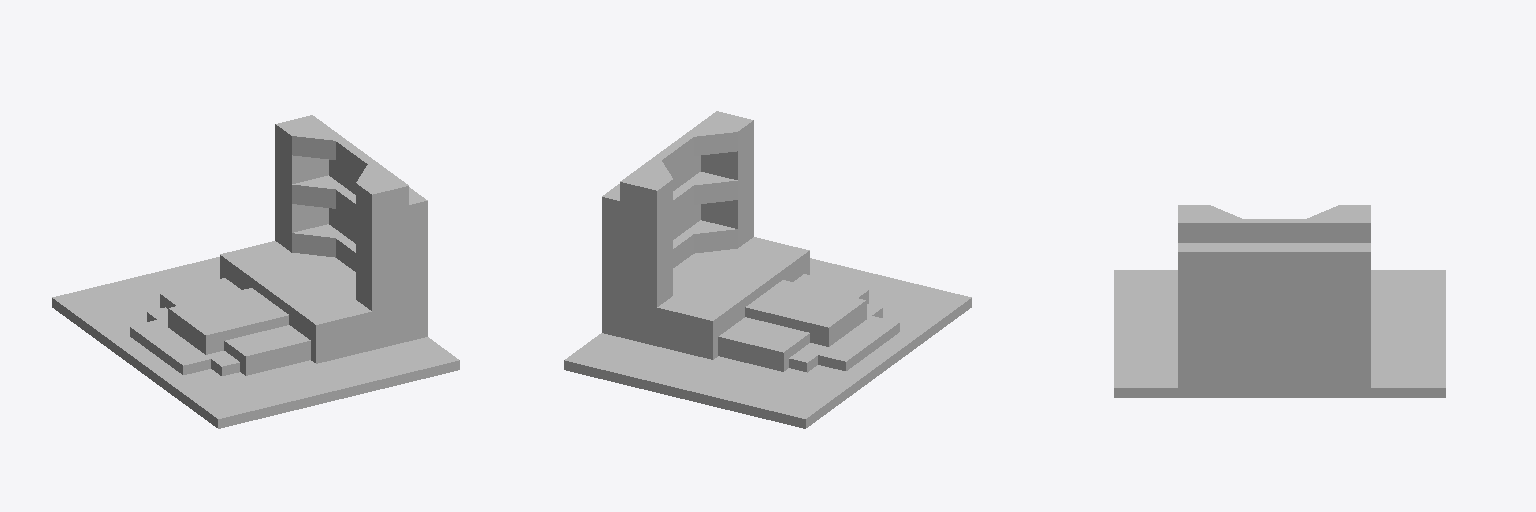
The picture shows the model from 3 angles: view 1: azimuth 30°, elevation 25°; view 2: azimuth 150°, elevation 25°; view 3: azimuth 270°, elevation 25°; orthographic projection.
Parts seen in each view (by area): view 1: entity0_brush5, entity0_brush0, entity0_brush12, entity0_brush4, entity0_brush13, entity0_brush19, entity0_brush3, entity0_brush1, entity0_brush2, entity0_brush16, entity0_brush6, entity0_brush10 (+4 smaller); view 2: entity0_brush5, entity0_brush0, entity0_brush13, entity0_brush4, entity0_brush12, entity0_brush19, entity0_brush2, entity0_brush1, entity0_brush16, entity0_brush11, entity0_brush7, entity0_brush15 (+4 smaller); view 3: entity0_brush19, entity0_brush5, entity0_brush16, entity0_brush12, entity0_brush13.
Boxes of the visible parts, x1=… form: entity0_brush5: x1=52, y1=257, x2=459, y2=428; entity0_brush0: x1=220, y1=241, x2=408, y2=363; entity0_brush12: x1=356, y1=174, x2=408, y2=310; entity0_brush4: x1=168, y1=288, x2=288, y2=354; entity0_brush13: x1=275, y1=115, x2=328, y2=252; entity0_brush19: x1=329, y1=160, x2=427, y2=340; entity0_brush3: x1=224, y1=325, x2=310, y2=375; entity0_brush1: x1=130, y1=320, x2=210, y2=374; entity0_brush2: x1=160, y1=278, x2=240, y2=308; entity0_brush16: x1=320, y1=127, x2=392, y2=176; entity0_brush6: x1=292, y1=226, x2=335, y2=257; entity0_brush10: x1=292, y1=129, x2=335, y2=159; entity0_brush5: x1=564, y1=258, x2=971, y2=428; entity0_brush0: x1=620, y1=237, x2=809, y2=359; entity0_brush13: x1=620, y1=170, x2=672, y2=306; entity0_brush4: x1=745, y1=280, x2=866, y2=346; entity0_brush12: x1=701, y1=111, x2=753, y2=247; entity0_brush19: x1=602, y1=156, x2=700, y2=336; entity0_brush2: x1=718, y1=317, x2=809, y2=371; entity0_brush1: x1=818, y1=316, x2=899, y2=370; entity0_brush16: x1=637, y1=123, x2=708, y2=172; entity0_brush11: x1=694, y1=125, x2=737, y2=155; entity0_brush7: x1=694, y1=223, x2=737, y2=253; entity0_brush15: x1=694, y1=174, x2=737, y2=204; entity0_brush19: x1=1178, y1=243, x2=1370, y2=387; entity0_brush5: x1=1114, y1=270, x2=1445, y2=397; entity0_brush16: x1=1210, y1=219, x2=1338, y2=242; entity0_brush12: x1=1178, y1=205, x2=1209, y2=242; entity0_brush13: x1=1339, y1=205, x2=1370, y2=242.
Bounding box in the file's own units: 208 × 136 × 248.